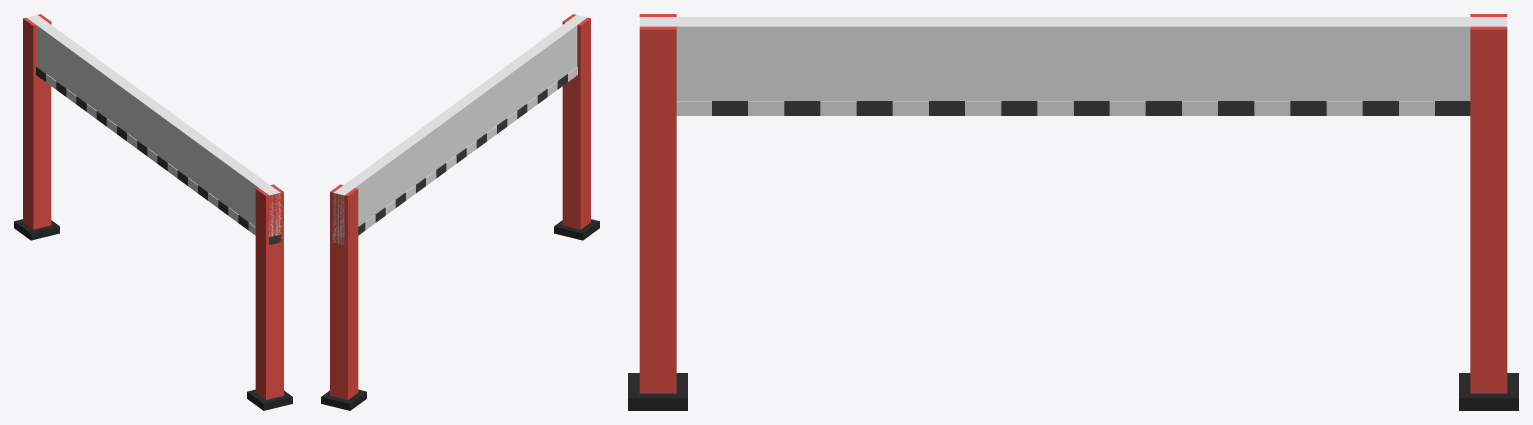
File: gate_start.glb
3 views of the same model, side by side, from view 1: azimuth 30°, elevation 25°; view 2: azimuth 150°, elevation 25°; view 3: azimuth 270°, elevation 25° (orthographic). The views are drawn at different scales.
Visible parts, largest first — view 1: SM_StartGate; view 2: SM_StartGate; view 3: SM_StartGate.
Part boxes in pixels (left/top/right/bottom): SM_StartGate: left=14, top=14, right=292, bottom=410; SM_StartGate: left=321, top=14, right=599, bottom=410; SM_StartGate: left=628, top=14, right=1518, bottom=410.
Bounding box in the file's own units: 1.3 × 9 × 19.3.
